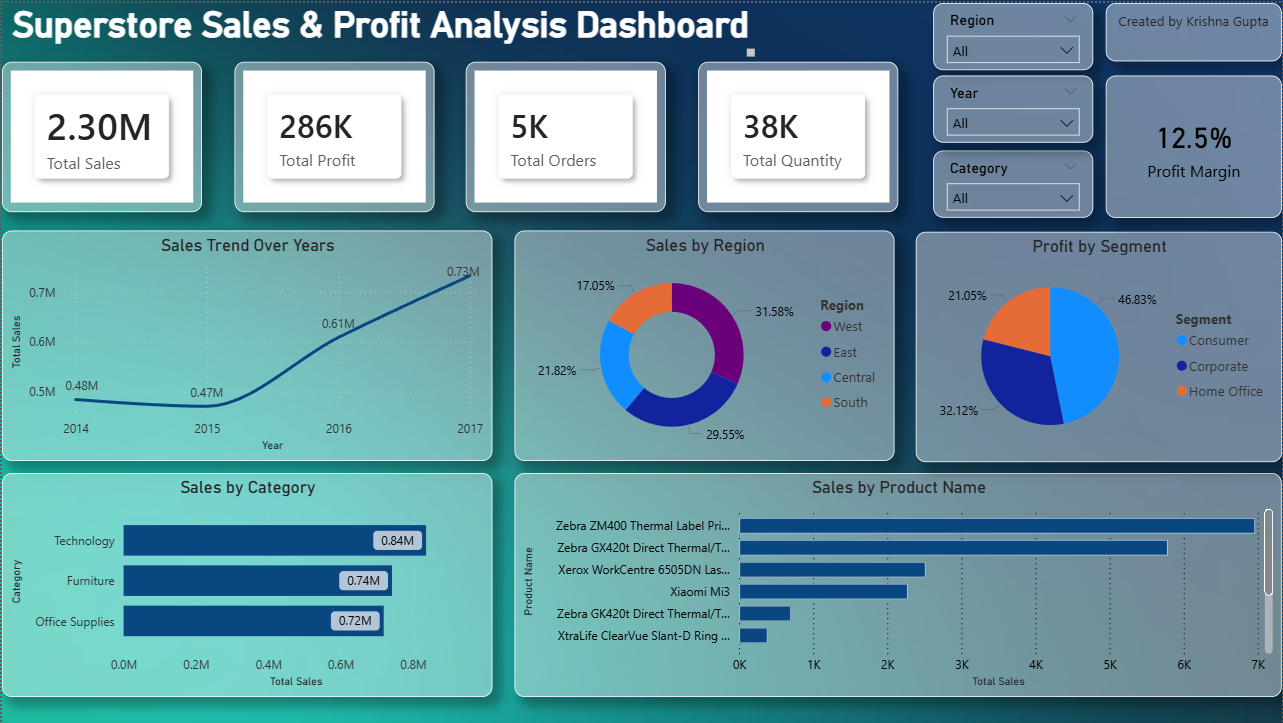

The page's visual inventory and layout, read from the dashboard file:
{"tool":"powerbi","page":{"name":"Dashboard","canvas":[1280,720],"ordinal":0},"visuals":[{"type":"textbox","title":"Superstore Sales & Profit Analysis Dashboard","box":[0,0,757.5,58.8],"z":0},{"type":"cardVisual","title":"Total Sales","fields":{"Data":["Sample - Superstore.Total Sales"]},"box":[0,58.8,200,150],"z":1000},{"type":"cardVisual","title":"Total Profit","fields":{"Data":["Sample - Superstore.Total Profit"]},"box":[232.1,58.8,200,150],"z":2000},{"type":"cardVisual","title":"Total Quantity","fields":{"Data":["Sample - Superstore.Total Quantity"]},"box":[696.2,58.8,200,150],"z":3000},{"type":"cardVisual","title":"Total Orders","fields":{"Data":["Sample - Superstore.Total Orders"]},"box":[464.2,58.8,200,150],"z":4000},{"type":"lineChart","title":"Sales Trend Over Years","fields":{"Category":["Sample - Superstore.Year"],"Y":["Sample - Superstore.Total Sales"]},"box":[0,227.5,490,230],"z":5000},{"type":"clusteredBarChart","title":"Sales by Category","fields":{"Category":["Sample - Superstore.Category"],"Y":["Sample - Superstore.Total Sales"]},"box":[0,470,490,224],"z":6000},{"type":"donutChart","title":"Sales by Region","fields":{"Category":["Sample - Superstore.Region"],"Y":["Sample - Superstore.Total Sales"]},"box":[512.5,227.5,380,230],"z":7000},{"type":"slicer","fields":{"Values":["Sample - Superstore.Region"]},"box":[931,0,160,67],"z":8000},{"type":"slicer","fields":{"Values":["Sample - Superstore.Category"]},"box":[931,147.5,160,67.5],"z":9000},{"type":"slicer","fields":{"Values":["Sample - Superstore.Year"]},"box":[931,72.5,160,67],"z":10000},{"type":"clusteredBarChart","title":"Sales by Product Name","fields":{"Category":["Sample - Superstore.Product Name"],"Y":["Sample - Superstore.Total Sales"]},"box":[512.5,470,767.5,223.8],"z":11000},{"type":"pieChart","title":"Profit by Segment","fields":{"Category":["Sample - Superstore.Segment"],"Y":["Sample - Superstore.Total Profit"]},"box":[926.2,228.8,353.8,230],"z":12000},{"type":"textbox","box":[1103.8,0,176.2,58.8],"z":13000},{"type":"card","fields":{"Values":["Sample - Superstore.Profit Margin"]},"box":[1103.8,72.5,176.2,142.5],"z":14000}]}

Visuals, with their boxes in screenshot pixels (x1, y1, x2, y2), scaled from the page's 1280x720 canvas onto the 1283x723 screenshot:
"Superstore Sales & Profit Analysis Dashboard" textbox: <bbox>0, 0, 759, 59</bbox>
"Total Sales" cardVisual: <bbox>0, 59, 200, 210</bbox>
"Total Profit" cardVisual: <bbox>233, 59, 433, 210</bbox>
"Total Quantity" cardVisual: <bbox>698, 59, 898, 210</bbox>
"Total Orders" cardVisual: <bbox>465, 59, 666, 210</bbox>
"Sales Trend Over Years" lineChart: <bbox>0, 228, 491, 459</bbox>
"Sales by Category" clusteredBarChart: <bbox>0, 472, 491, 697</bbox>
"Sales by Region" donutChart: <bbox>514, 228, 895, 459</bbox>
slicer - Sample - Superstore.Region: <bbox>933, 0, 1094, 67</bbox>
slicer - Sample - Superstore.Category: <bbox>933, 148, 1094, 216</bbox>
slicer - Sample - Superstore.Year: <bbox>933, 73, 1094, 140</bbox>
"Sales by Product Name" clusteredBarChart: <bbox>514, 472, 1282, 697</bbox>
"Profit by Segment" pieChart: <bbox>928, 230, 1282, 461</bbox>
textbox: <bbox>1106, 0, 1282, 59</bbox>
card - Sample - Superstore.Profit Margin: <bbox>1106, 73, 1282, 216</bbox>
